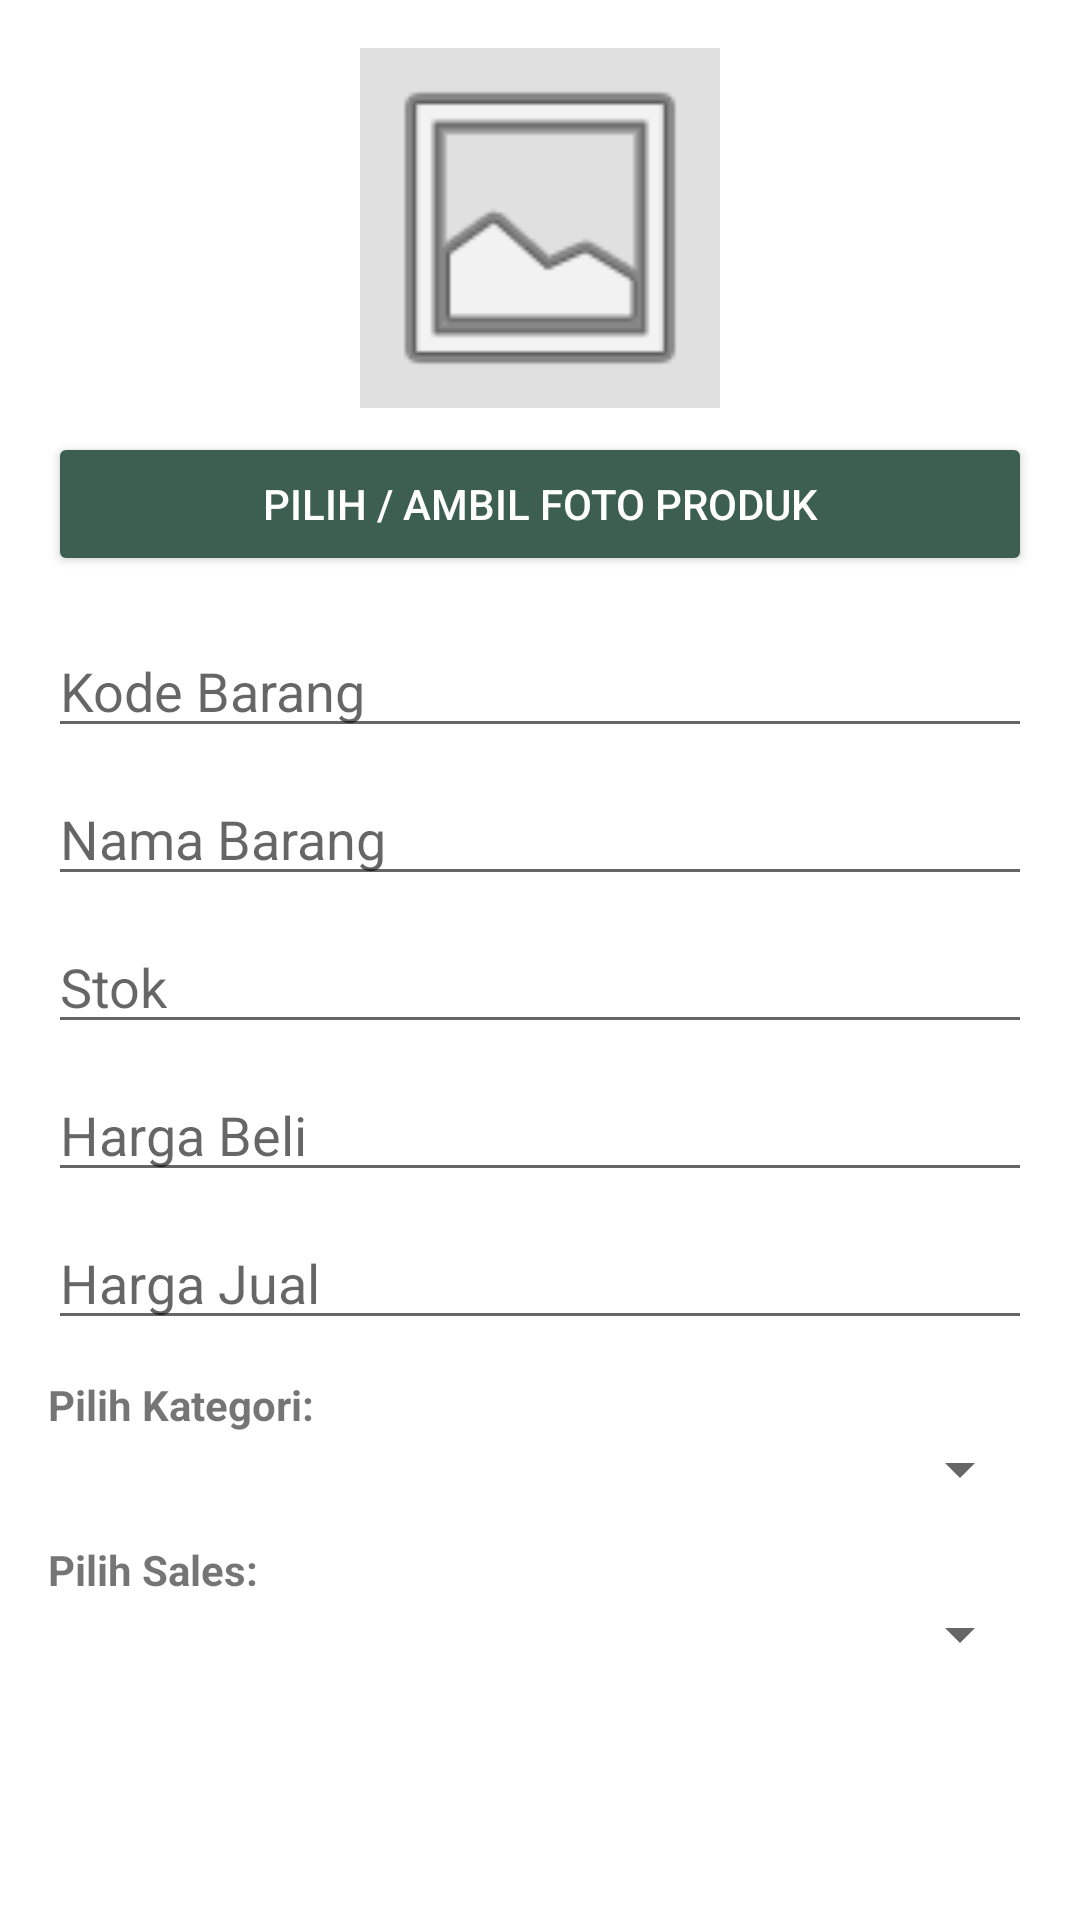

Point at icon controls on the screen. Image size 1080*1920, points as [x,y].
gallery: [540,228]
